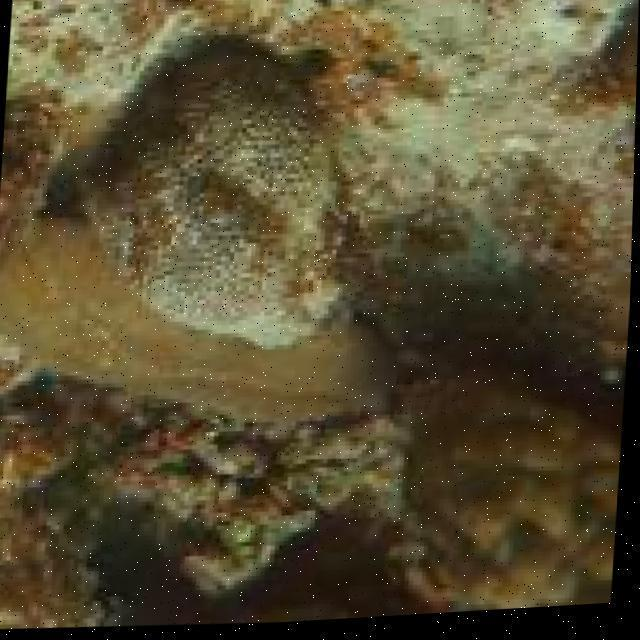Bleached Coral: (92, 31, 360, 352)
Healthy Coral: (0, 205, 401, 423), (410, 371, 640, 624), (0, 472, 129, 640)
